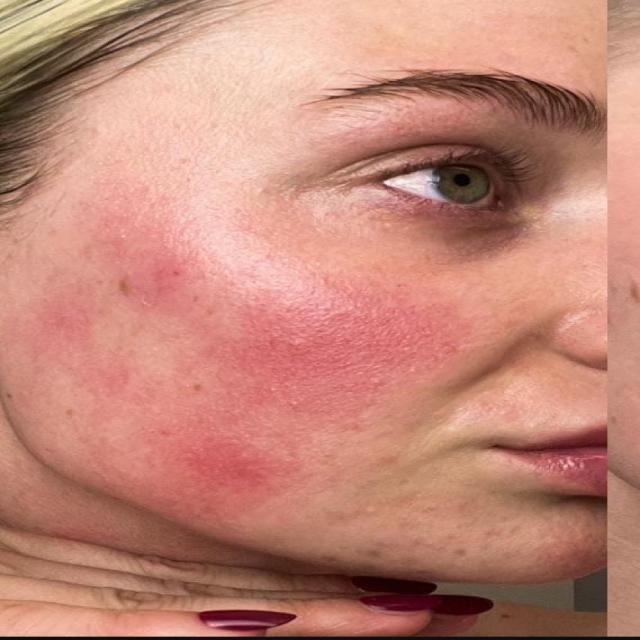Rosacea: (71, 240, 470, 458)
